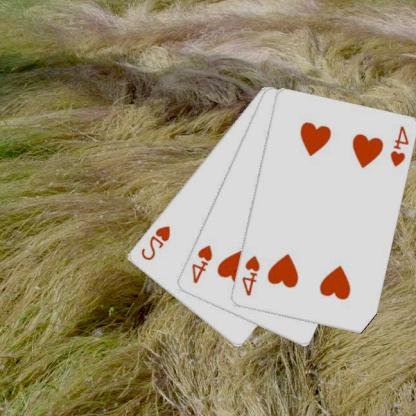2H: (140, 223, 174, 262)
4H: (190, 242, 216, 285), (388, 123, 412, 168), (240, 253, 263, 297)
